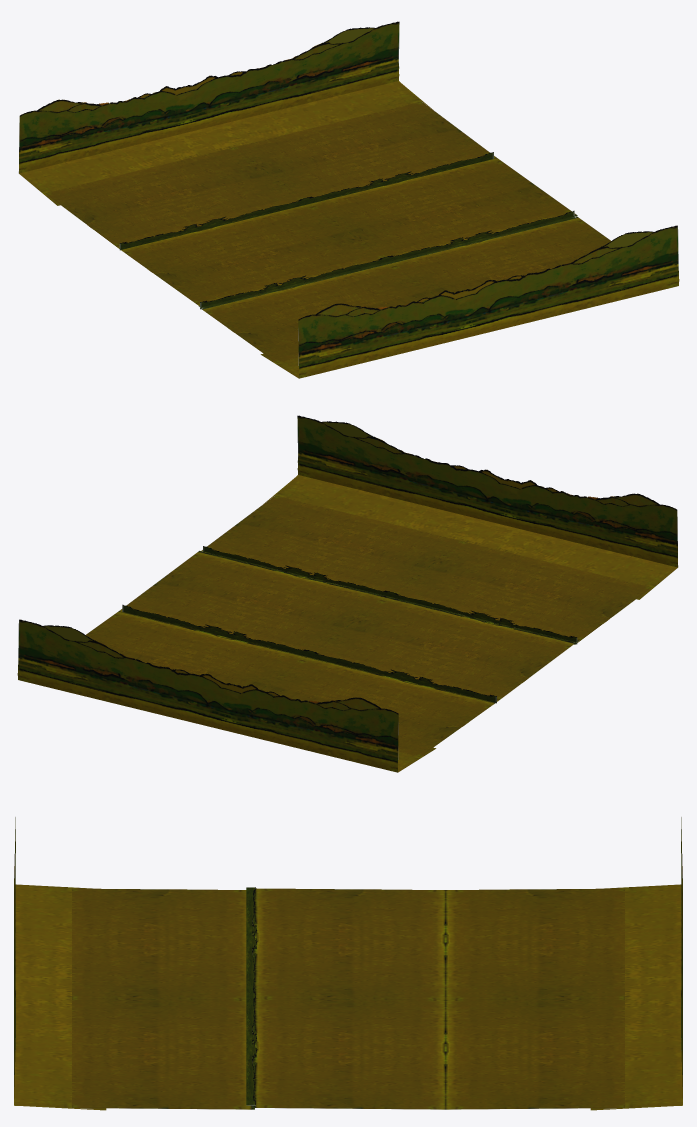
Rendered from stage2_zimen.fbx.
The picture shows the model from 3 angles, top to bottom: view 1: azimuth 30°, elevation 25°; view 2: azimuth 150°, elevation 25°; view 3: azimuth 270°, elevation 25°; orthographic projection. The views are drawn at different scales.
Parts seen in each view (by area): view 1: grid31, polymsh_detached1, polymsh_detached, grid34, grid39; view 2: grid31, polymsh_detached1, polymsh_detached, grid34, grid39; view 3: polymsh_detached1, polymsh_detached, grid31, grid39.
Part boxes in pixels (box(x1,y1,x2,y2)): grid31: box(18, 21, 679, 378); polymsh_detached1: box(45, 101, 611, 362); polymsh_detached: box(121, 158, 577, 305); grid34: box(119, 152, 574, 309); grid39: box(199, 216, 576, 309); grid31: box(17, 415, 678, 772); polymsh_detached1: box(85, 495, 651, 756); polymsh_detached: box(119, 550, 574, 703); grid34: box(122, 546, 577, 703); grid39: box(202, 551, 579, 643); polymsh_detached1: box(72, 888, 624, 1109); polymsh_detached: box(252, 888, 445, 1109); grid31: box(14, 817, 682, 1110); grid39: box(246, 887, 257, 1105).
Bounding box in the file's own units: 6.09 × 1.06 × 7.61.
